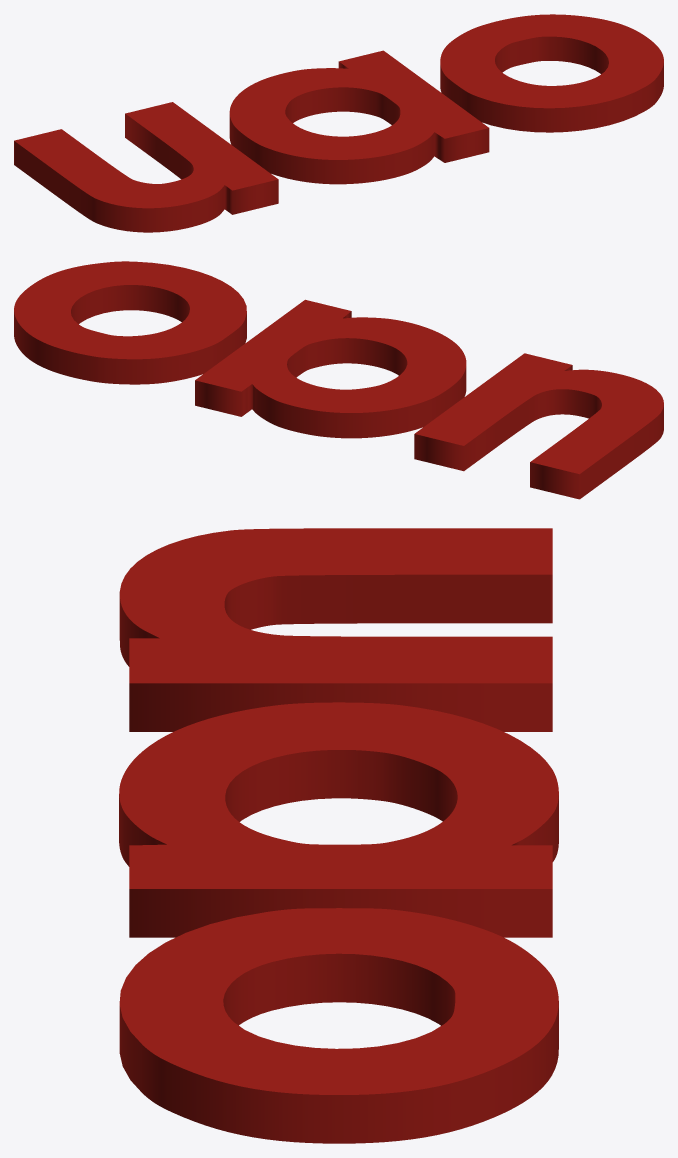
File: uao3d.glb
3 renders of one model, top to bottom at view 1: azimuth 30°, elevation 25°; view 2: azimuth 150°, elevation 25°; view 3: azimuth 270°, elevation 25°, orthographic. The views are drawn at different scales.
Parts seen in each view (by area): view 1: Curve, Curve.001, Curve.002; view 2: Curve, Curve.001, Curve.002; view 3: Curve, Curve.001, Curve.002.
Boxes of the visible parts, left/top/right/bottom form: Curve: left=229, top=50, right=489, bottom=184; Curve.001: left=440, top=14, right=663, bottom=132; Curve.002: left=14, top=102, right=278, bottom=232; Curve: left=195, top=299, right=466, bottom=438; Curve.001: left=14, top=261, right=246, bottom=384; Curve.002: left=414, top=353, right=663, bottom=499; Curve: left=119, top=702, right=558, bottom=937; Curve.001: left=119, top=908, right=558, bottom=1143; Curve.002: left=119, top=528, right=552, bottom=731.
Bounding box in the file's own units: 1.27 × 0.0506 × 0.4151.
